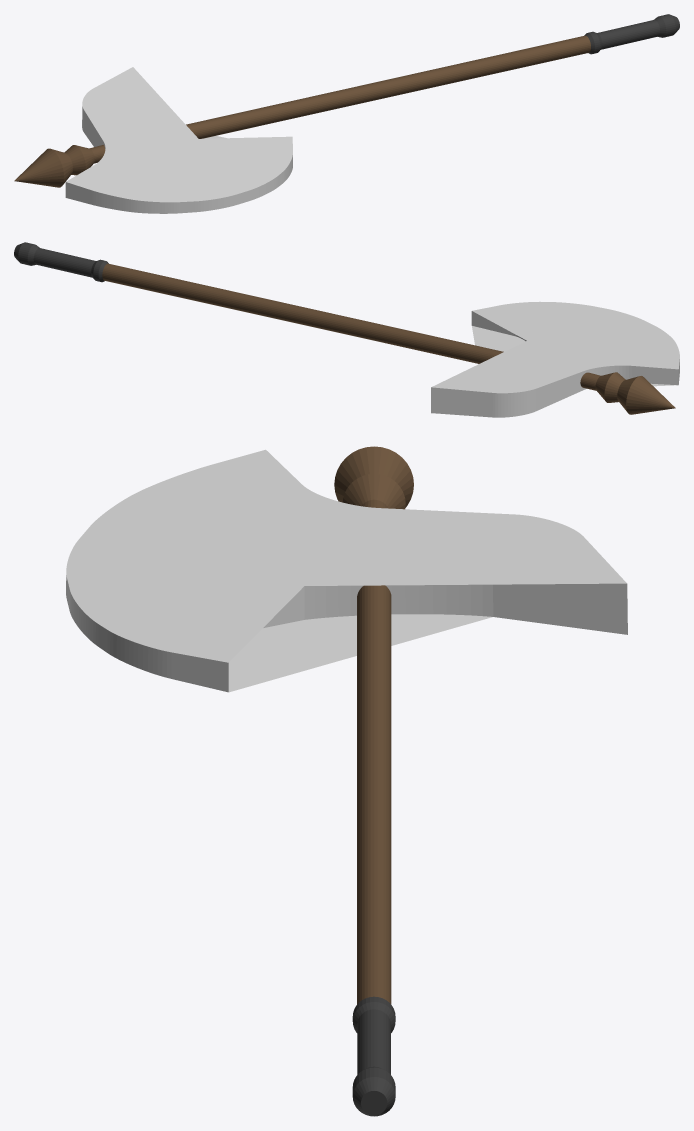
The model's file is kandik.fbx.
3 renders of one model, top to bottom at view 1: azimuth 30°, elevation 25°; view 2: azimuth 150°, elevation 25°; view 3: azimuth 270°, elevation 25°, orthographic. The views are drawn at different scales.
Visible parts, largest first — view 1: Plane; view 2: Plane; view 3: Plane.
Boxes of the visible parts, x1=… form: Plane: x1=14, y1=14, x2=679, y2=213; Plane: x1=14, y1=242, x2=679, y2=417; Plane: x1=66, y1=446, x2=627, y2=1116.
Bounding box in the file's own units: 458 × 25.34 × 169.
